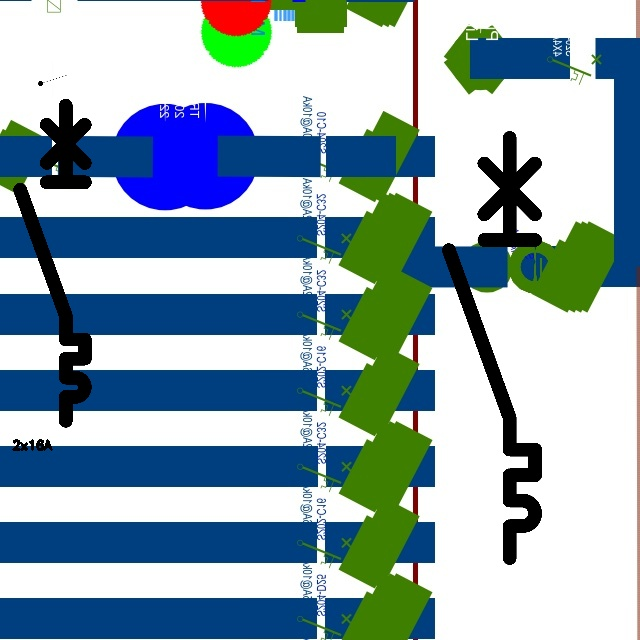interruptor_termomagnetico: (438, 127, 546, 569), (12, 97, 93, 429)
